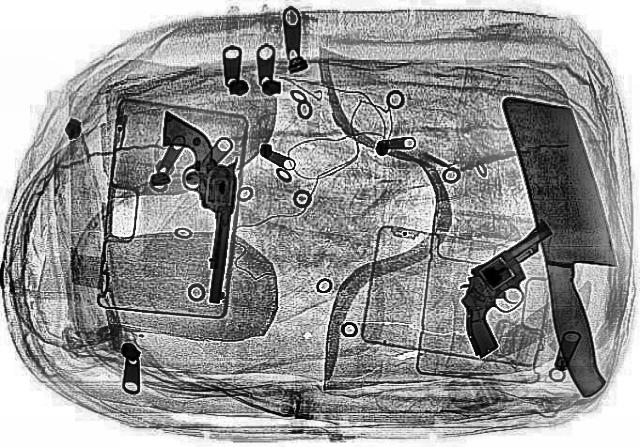Gun: (404, 222, 622, 358), (140, 110, 244, 302)
Knife: (500, 90, 638, 396)
